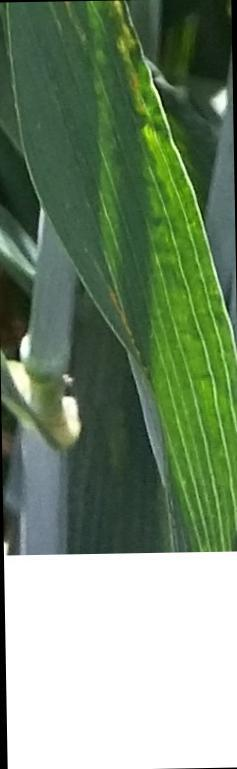Wheat: (155, 317, 237, 541)
